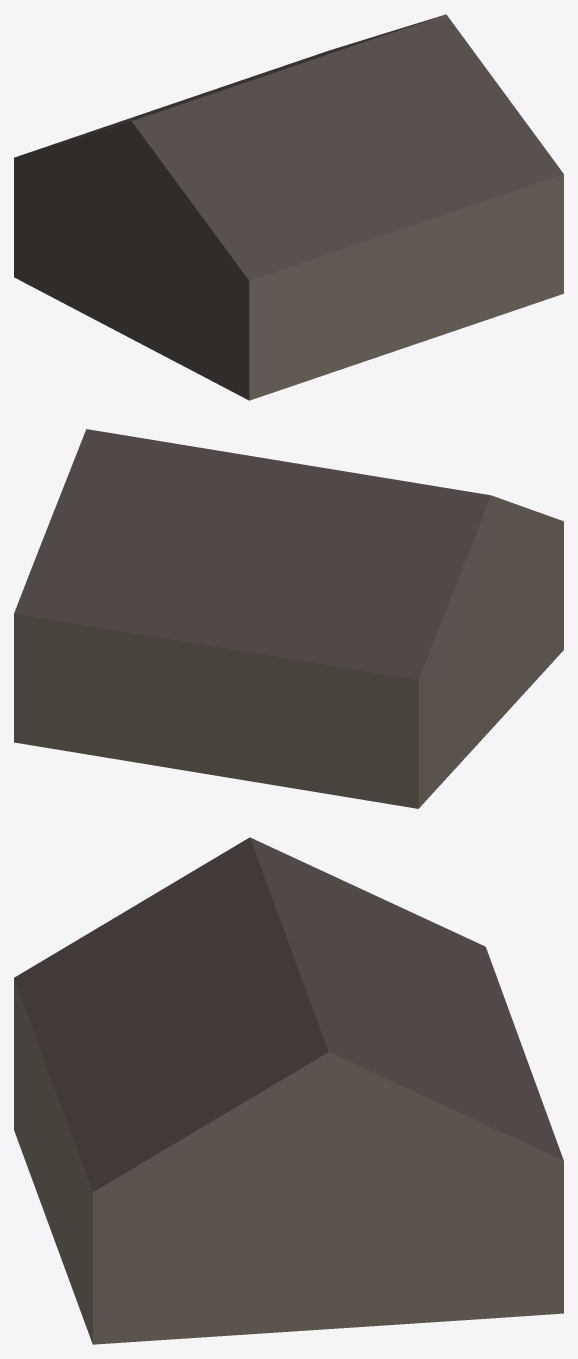
3 renders of one model, top to bottom at view 1: azimuth 30°, elevation 25°; view 2: azimuth 150°, elevation 25°; view 3: azimuth 270°, elevation 25°, orthographic. The views are drawn at different scales.
Parts seen in each view (by area): view 1: HP-w858807479; view 2: HP-w858807479; view 3: HP-w858807479.
Part boxes in pixels (left/top/right/bottom): HP-w858807479: left=14, top=14, right=563, bottom=400; HP-w858807479: left=14, top=429, right=563, bottom=808; HP-w858807479: left=14, top=837, right=563, bottom=1344.
Size of the model in its own units: 10.39 by 5.46 by 9.82.
